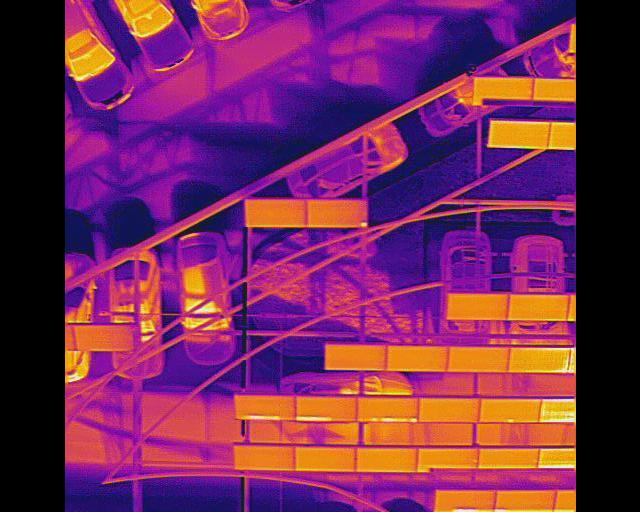Cell: (306, 200, 367, 228), (479, 398, 542, 424)
No-Anomaly: (323, 343, 385, 370), (446, 294, 507, 321), (489, 120, 550, 147), (385, 346, 446, 373), (244, 200, 306, 226), (447, 347, 508, 373), (232, 445, 293, 471), (72, 326, 131, 352), (416, 397, 477, 422), (507, 295, 568, 320), (294, 447, 354, 472), (355, 448, 416, 472), (473, 77, 533, 100), (418, 448, 477, 470), (479, 447, 538, 468)
Unclassified: (234, 394, 296, 421), (506, 348, 569, 373), (294, 397, 356, 421), (357, 398, 416, 422), (434, 490, 494, 512), (495, 490, 554, 512)
